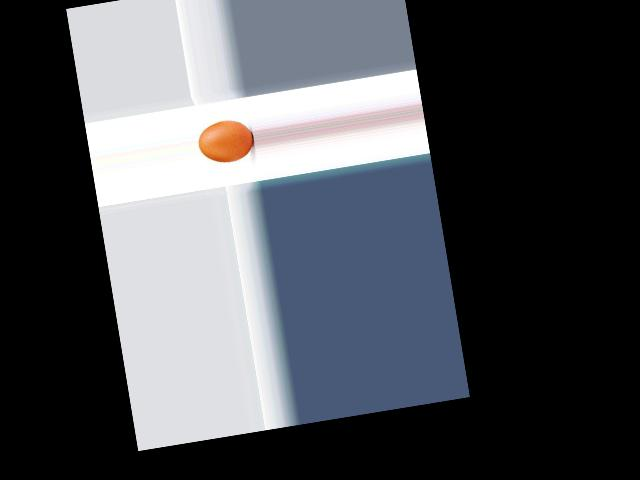egg: (196, 117, 256, 166)
